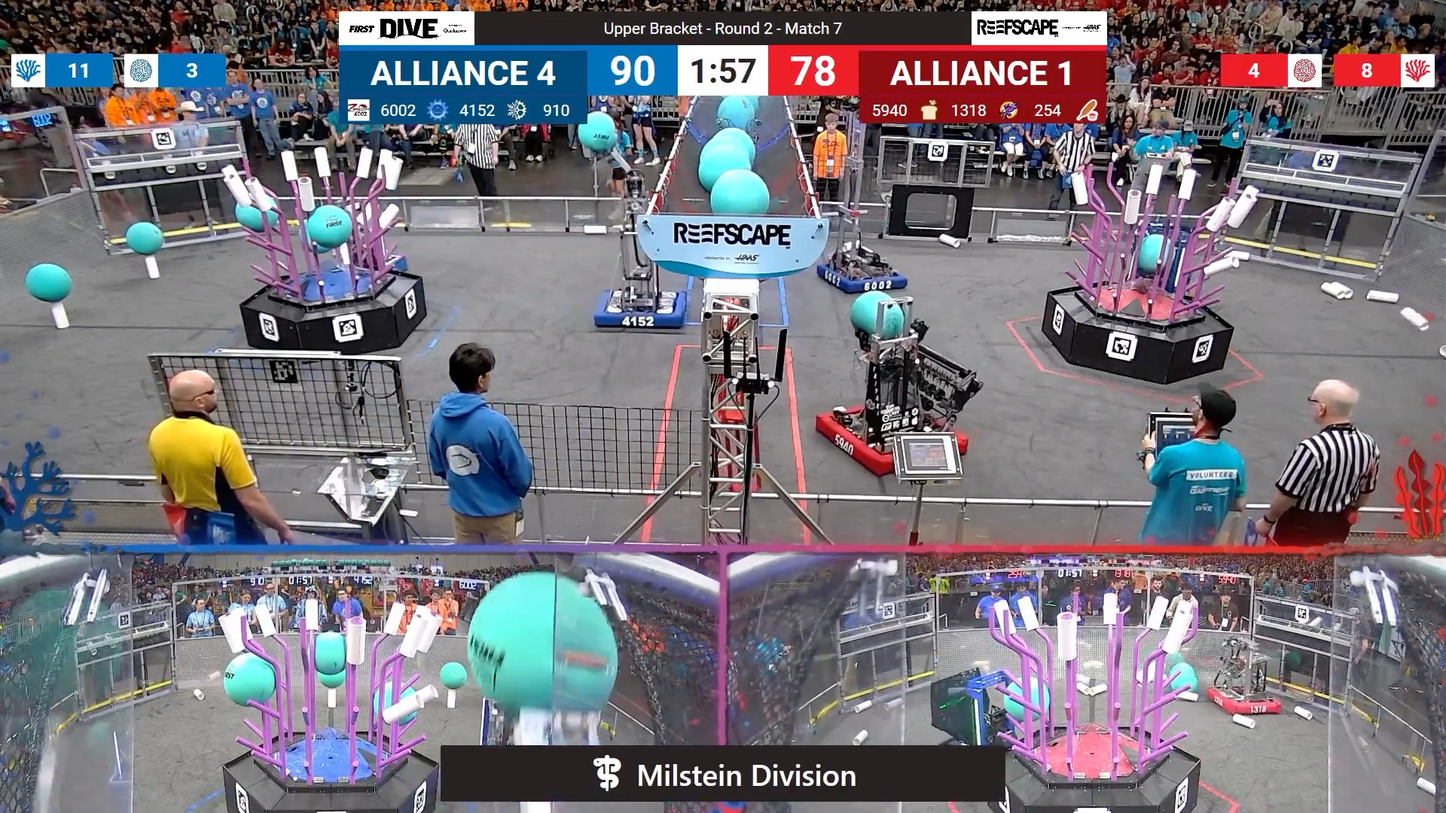bumpers: (813, 406, 972, 482), (591, 286, 691, 334), (808, 258, 910, 297), (1197, 686, 1286, 720)
